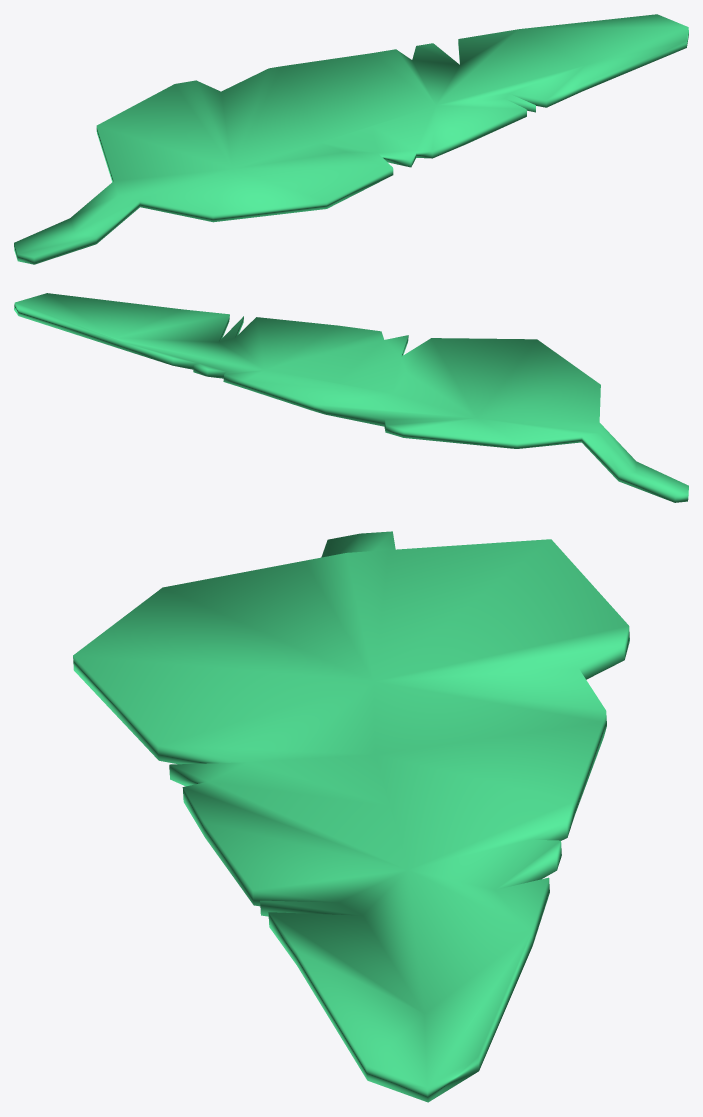
File: palmFrond.glb
3 views of the same model, one above another, from view 1: azimuth 30°, elevation 25°; view 2: azimuth 150°, elevation 25°; view 3: azimuth 270°, elevation 25° (orthographic). The views are drawn at different scales.
Parts seen in each view (by area): view 1: Cube; view 2: Cube; view 3: Cube.
Part boxes in pixels (bbox=[...]): Cube: bbox=[14, 14, 688, 264]; Cube: bbox=[14, 293, 688, 502]; Cube: bbox=[73, 531, 629, 1102].
Size of the model in its own units: 0.597 by 0.0583 by 0.2189.
